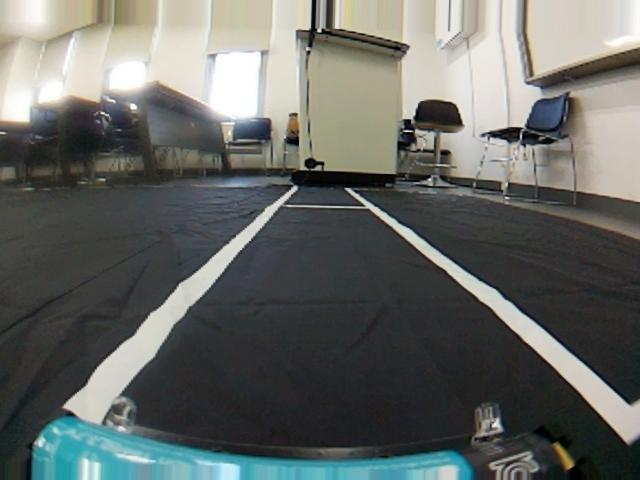straight: (0, 186, 640, 480)
